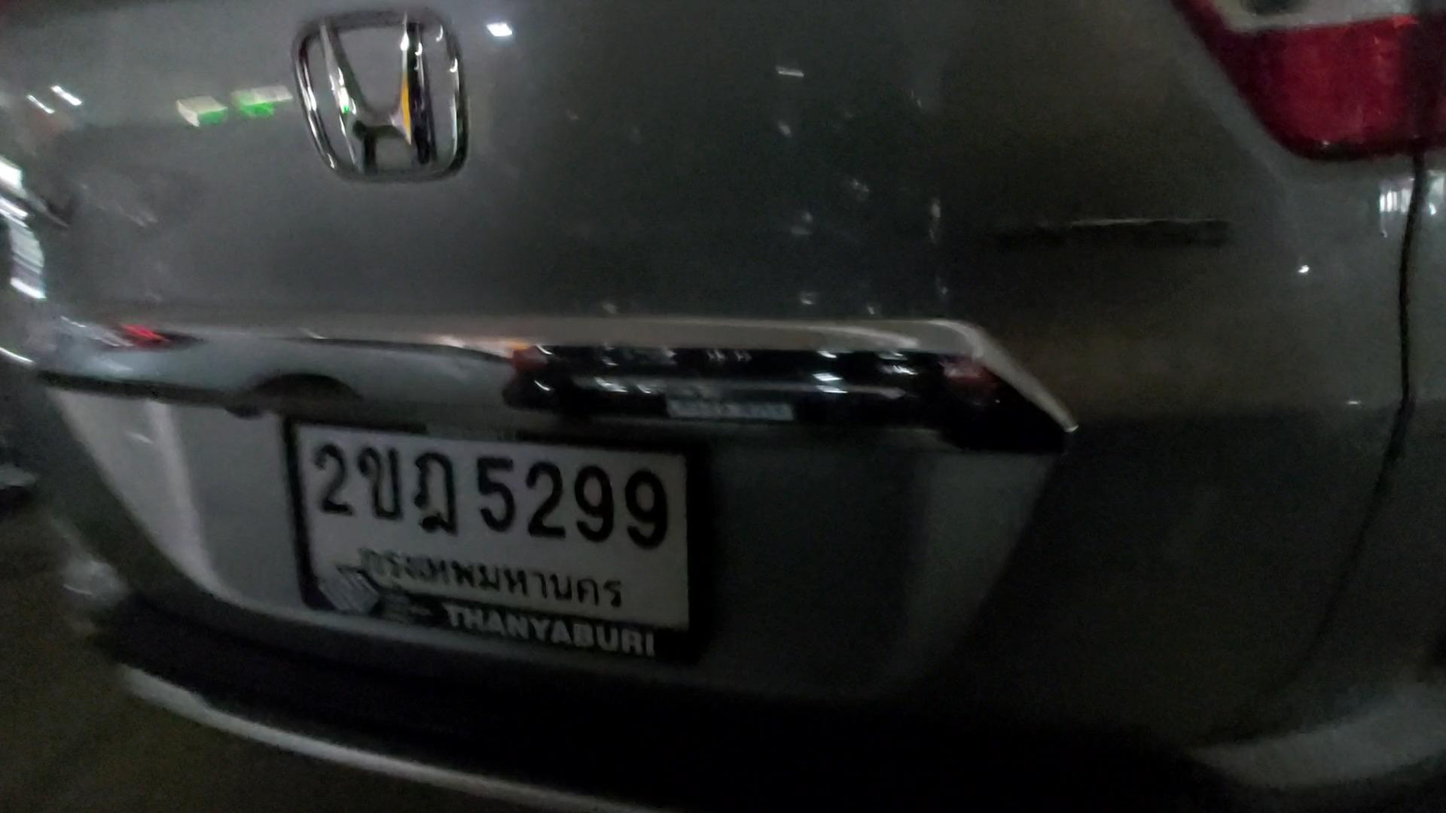license-plate: (295, 426, 690, 637)
